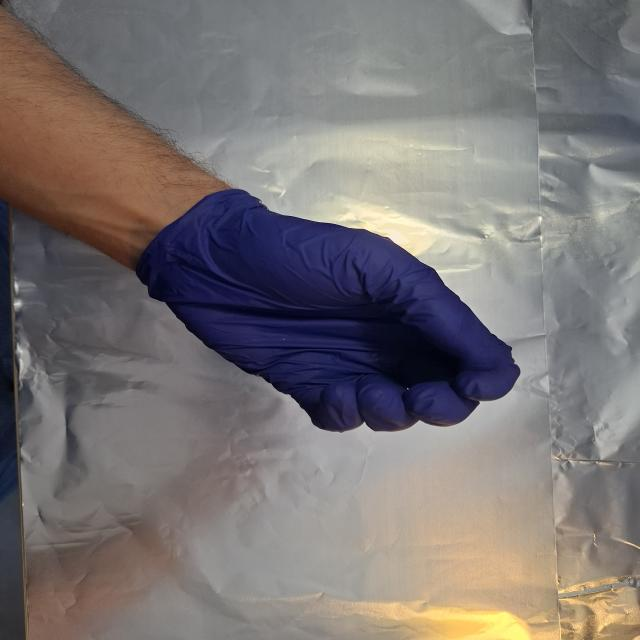glove_on: (136, 191, 525, 435)
